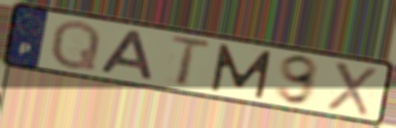9: (271, 54, 323, 107)
A: (97, 28, 157, 82)
M: (208, 41, 275, 100)
Q: (47, 19, 104, 72)
T: (167, 34, 213, 89)
X: (324, 59, 379, 119)
